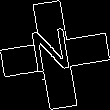N_S: (31, 27, 79, 83)
